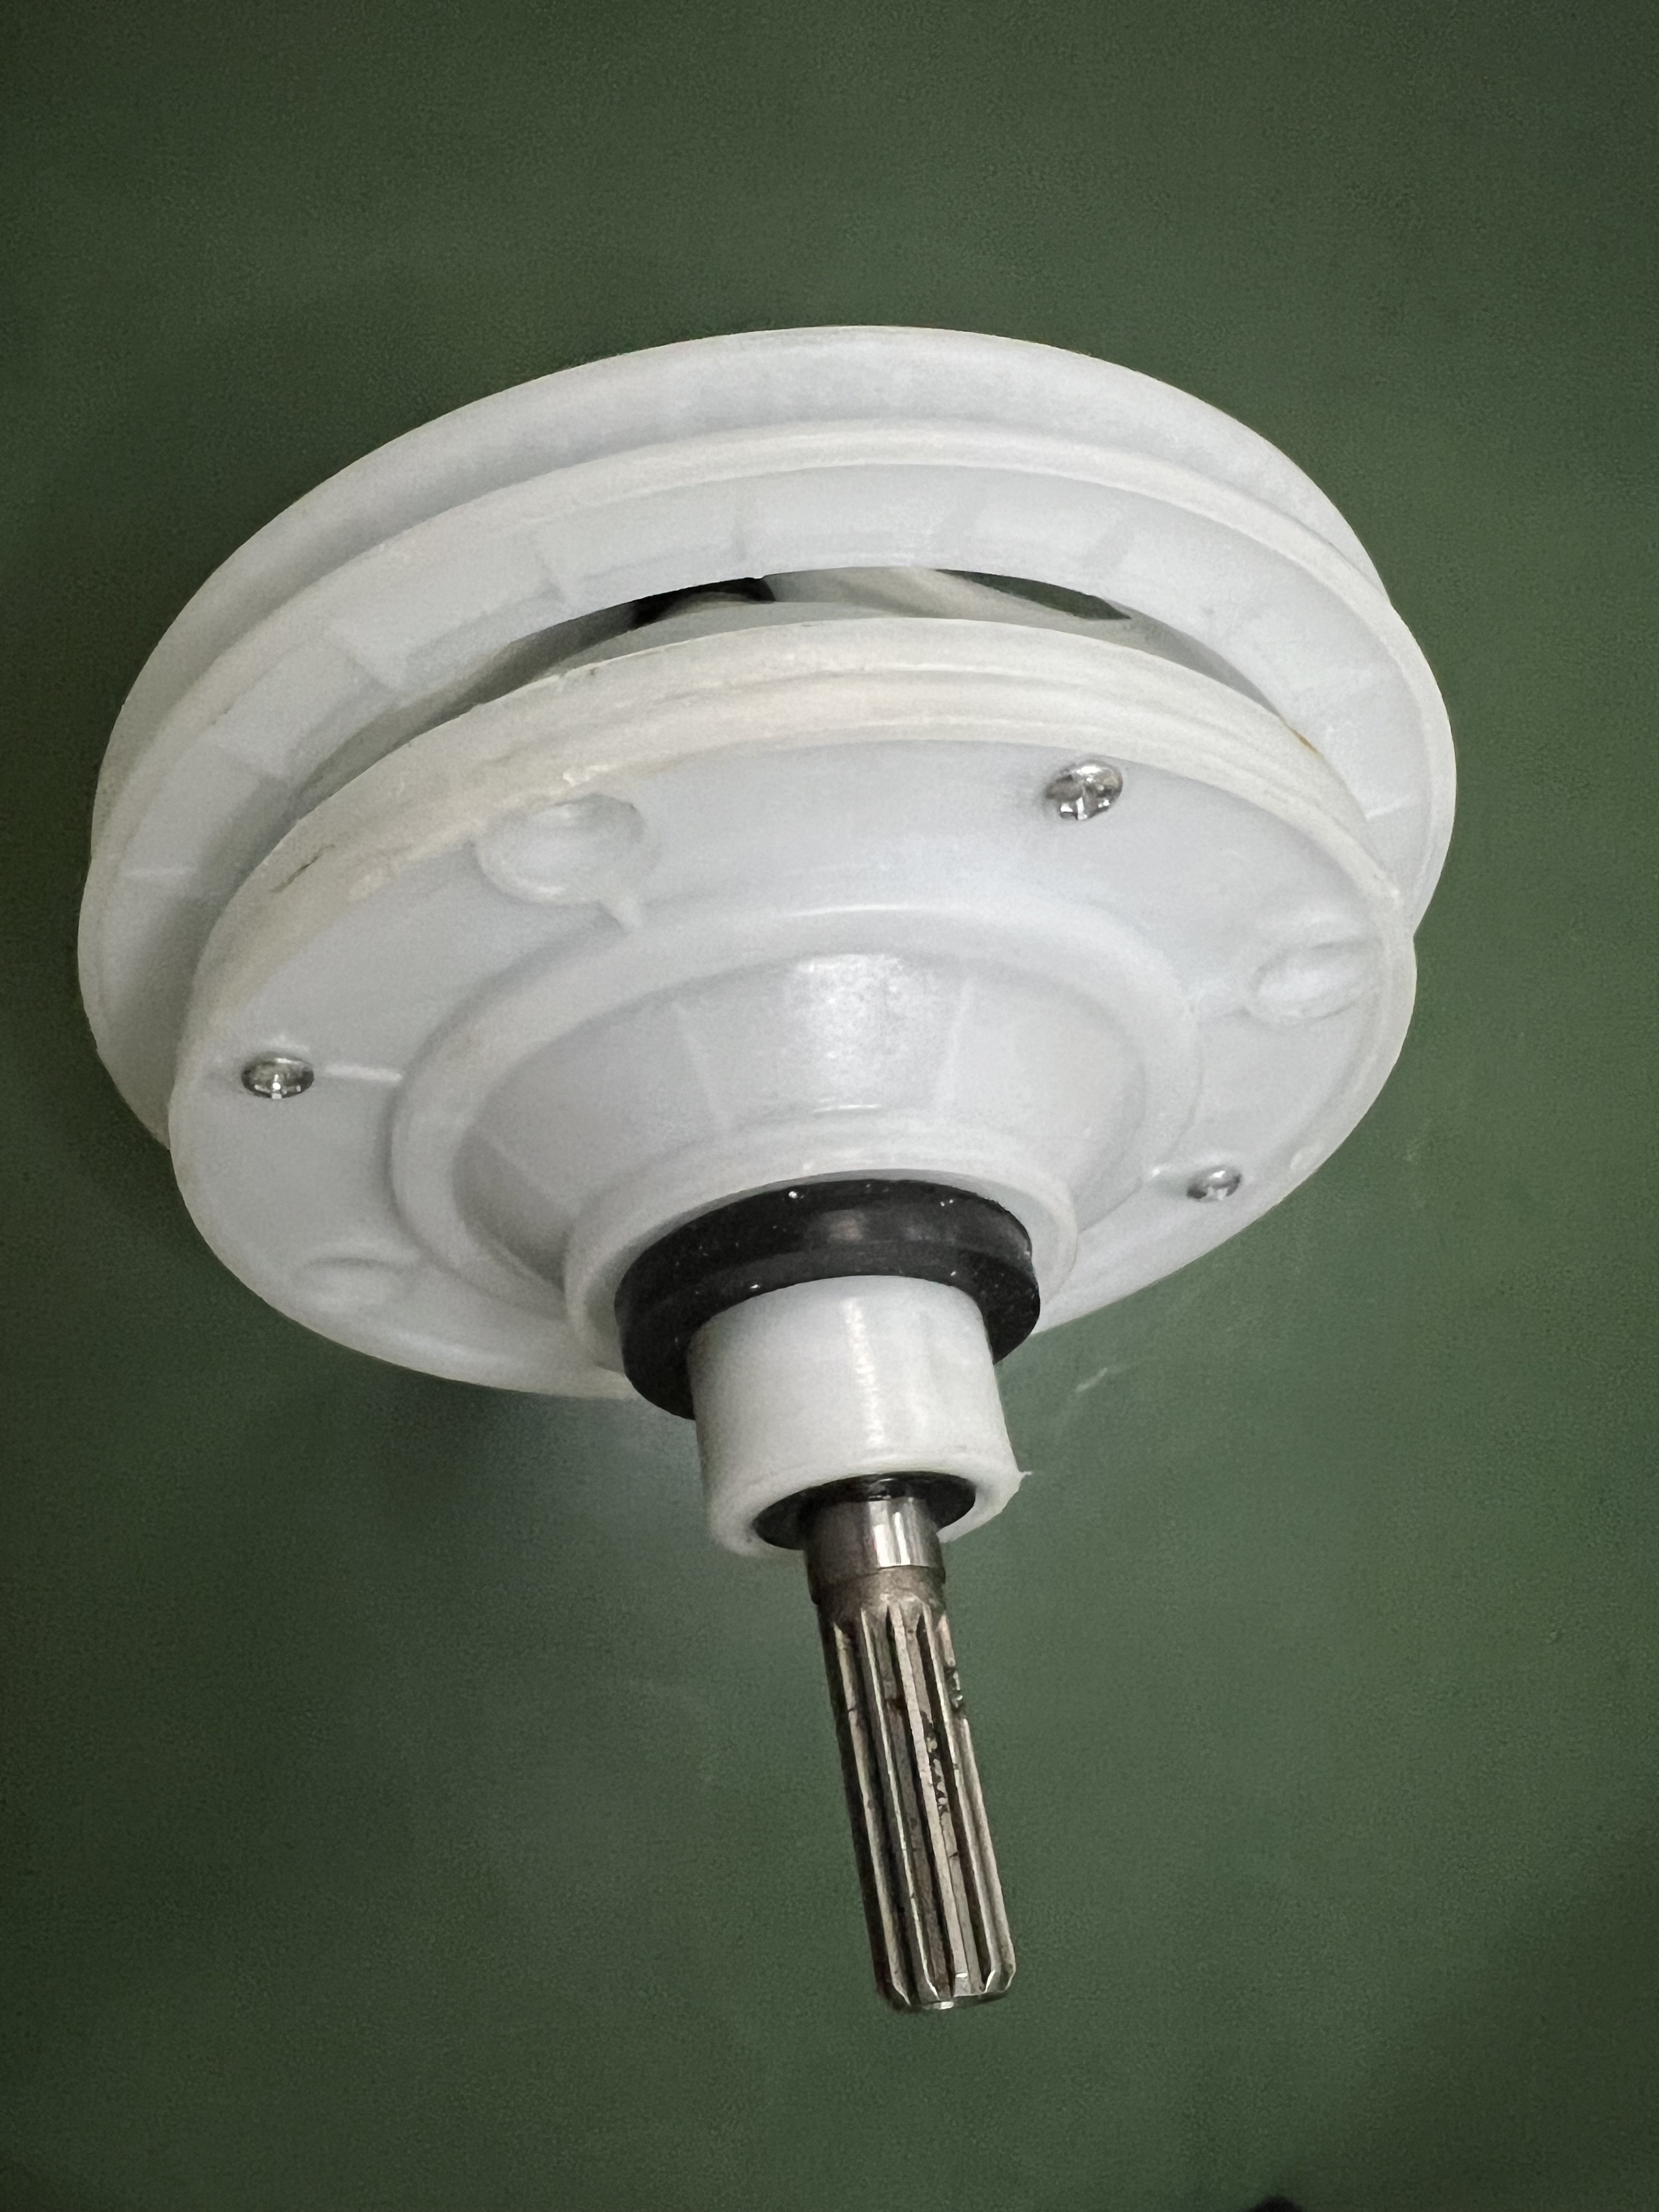gear_box_circle: (47, 322, 1483, 2020)
